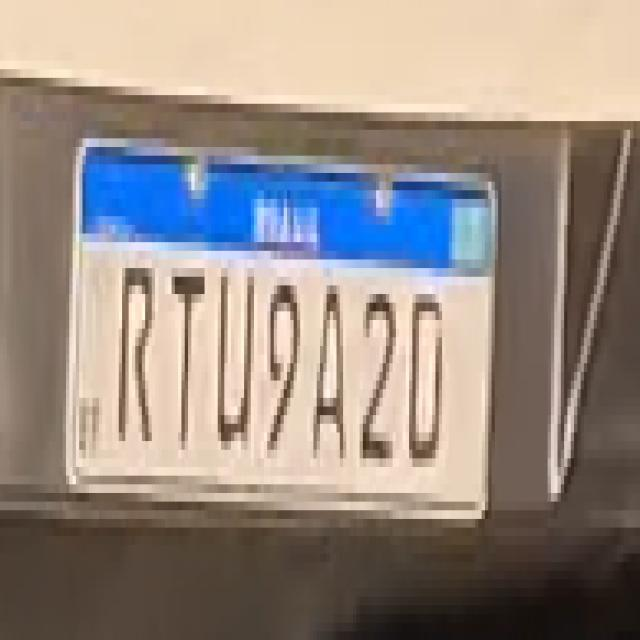Placa_mercosul_carro: (65, 127, 496, 518)
